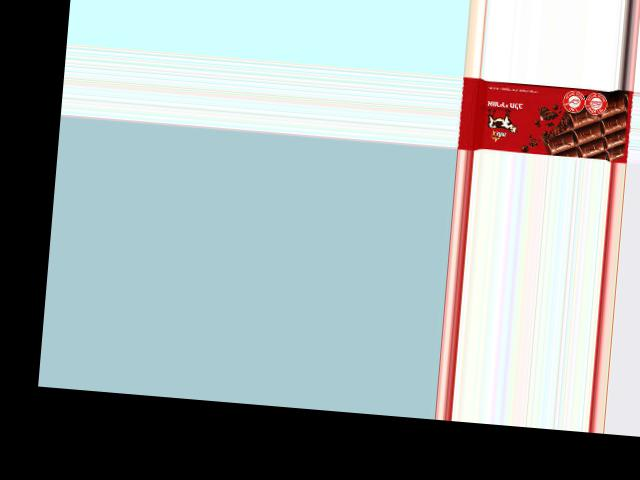chocolate: (459, 76, 633, 162)
